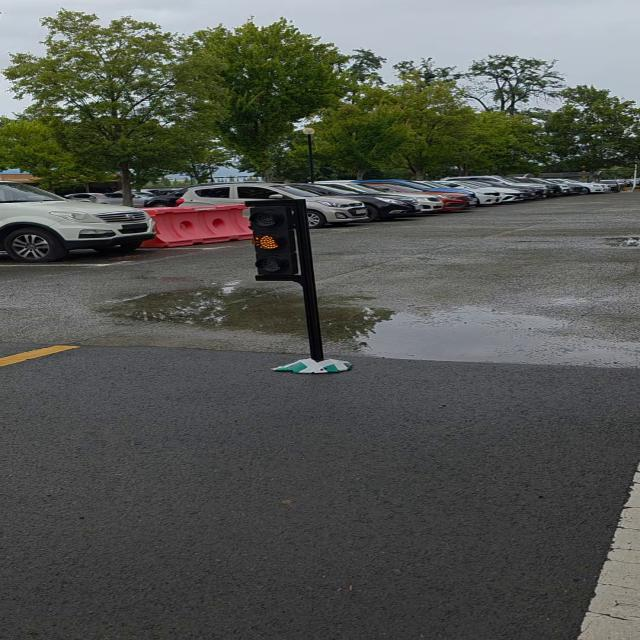yellow: (254, 206, 306, 282)
